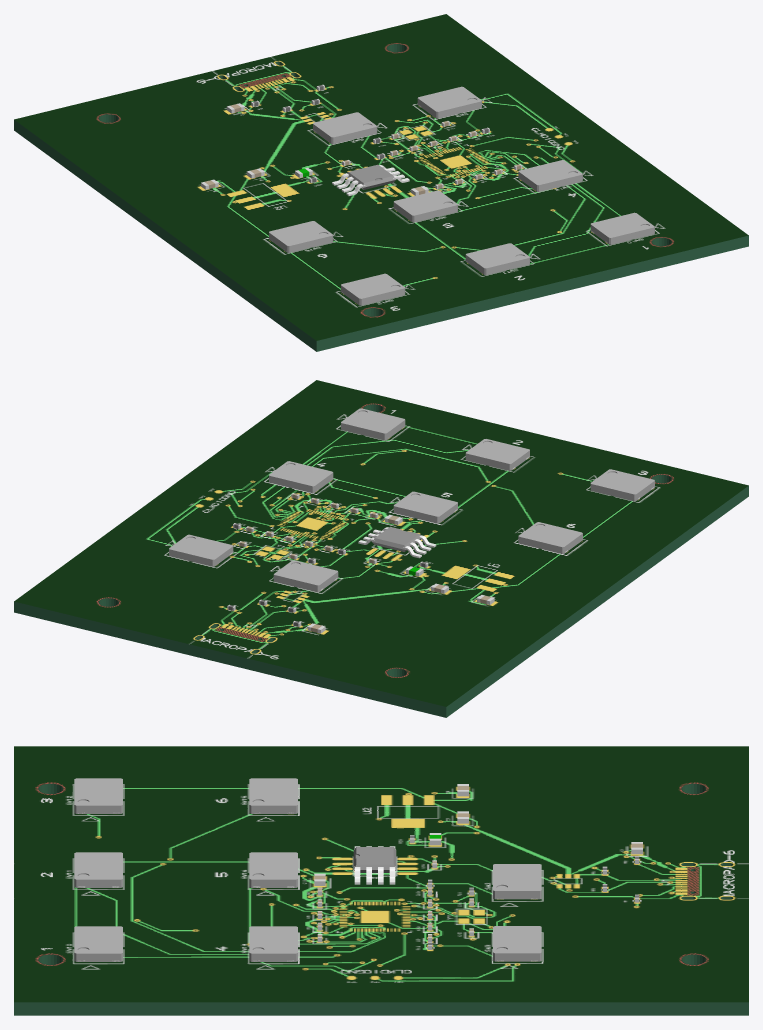
The picture shows the model from 3 angles, top to bottom: view 1: azimuth 30°, elevation 25°; view 2: azimuth 150°, elevation 25°; view 3: azimuth 270°, elevation 25°; orthographic projection. The views are drawn at different scales.
Parts seen in each view (by area): view 1: Box0, SW14, SW2, SW10, SW12, SW3, SW11, SW15, SW13, U4; view 2: Box0, SW2, SW14, SW10, SW12, SW3, SW13, SW11, SW15, U4; view 3: Box0, SW11, SW12, SW14, SW15, SW2, SW3, SW10, SW13, U4.
Boxes of the visible parts, left/top/right/bottom form: Box0: left=14, top=14, right=748, bottom=351; SW14: left=393, top=190, right=457, bottom=222; SW2: left=313, top=112, right=377, bottom=144; SW10: left=590, top=212, right=654, bottom=244; SW12: left=341, top=273, right=405, bottom=305; SW3: left=417, top=86, right=481, bottom=118; SW11: left=465, top=243, right=529, bottom=275; SW15: left=269, top=221, right=333, bottom=252; SW13: left=518, top=160, right=582, bottom=191; U4: left=332, top=164, right=409, bottom=195; Box0: left=14, top=380, right=748, bottom=717; SW2: left=273, top=560, right=338, bottom=592; SW14: left=393, top=491, right=457, bottom=523; SW10: left=341, top=408, right=405, bottom=440; SW12: left=590, top=469, right=654, bottom=501; SW3: left=169, top=534, right=233, bottom=566; SW13: left=269, top=461, right=333, bottom=493; SW11: left=465, top=439, right=529, bottom=470; SW15: left=518, top=522, right=582, bottom=553; U4: left=358, top=526, right=436, bottom=558; Box0: left=14, top=746, right=748, bottom=1015; SW11: left=74, top=852, right=122, bottom=887; SW12: left=74, top=778, right=122, bottom=813; SW14: left=249, top=852, right=297, bottom=887; SW15: left=249, top=778, right=297, bottom=813; SW2: left=493, top=864, right=541, bottom=899; SW3: left=493, top=926, right=541, bottom=961; SW10: left=74, top=926, right=122, bottom=961; SW13: left=249, top=926, right=297, bottom=961; U4: left=353, top=846, right=396, bottom=884.
Bounding box in the file's own units: 66 × 2.88 × 80.
10 materials, 2 textured.
